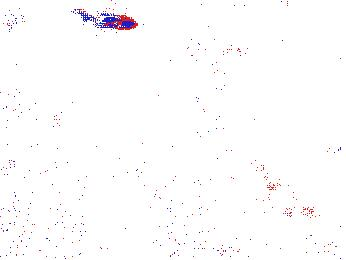X-ray fish: (124, 157, 185, 187), (233, 229, 290, 255)
red belly glassfish: (78, 6, 138, 31), (320, 142, 344, 159)
redtail glassfish: (176, 36, 247, 66)
